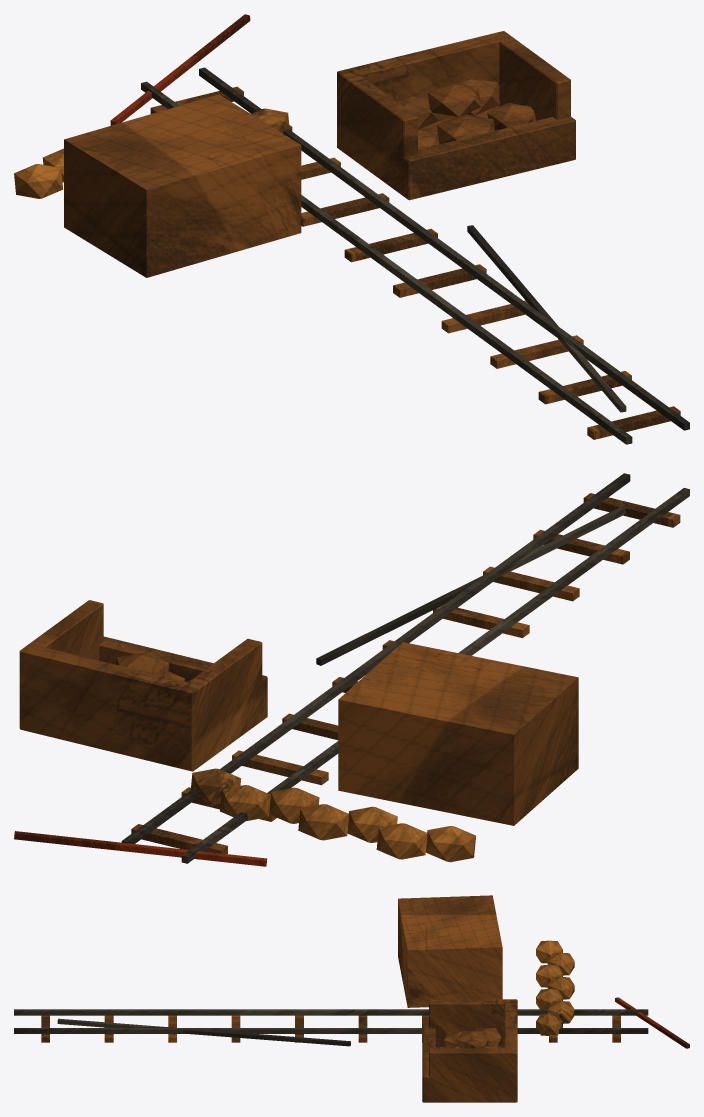
File: mine-spur-kit.glb
The picture shows the model from 3 angles, top to bottom: view 1: azimuth 30°, elevation 25°; view 2: azimuth 150°, elevation 25°; view 3: azimuth 270°, elevation 25°; orthographic projection. The views are drawn at different scales.
Parts seen in each view (by area): view 1: mine-spur-kit; view 2: mine-spur-kit; view 3: mine-spur-kit.
Part boxes in pixels (box(x1,y1,x2,y2)): mine-spur-kit: box(14, 14, 689, 444); mine-spur-kit: box(14, 473, 689, 866); mine-spur-kit: box(14, 895, 689, 1102).
Bounding box in the file's own units: 8.83 × 1.74 × 17.05.
1 material, 1 textured.
